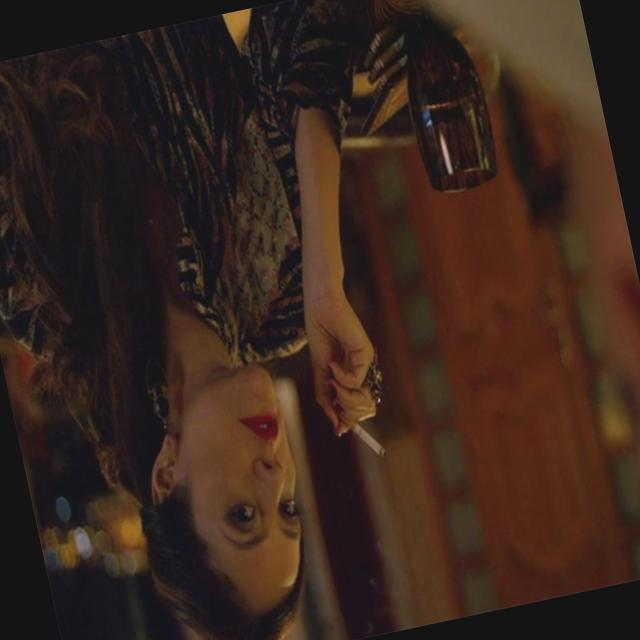smoke: (336, 396, 395, 472)
